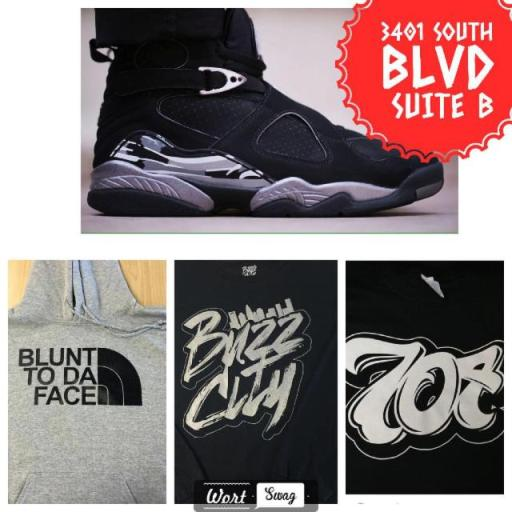The North Face: (96, 346, 145, 410)
